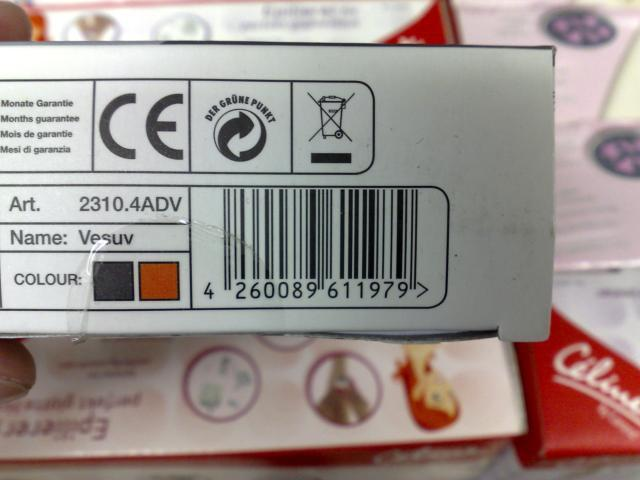Barcode: (194, 186, 440, 304)
